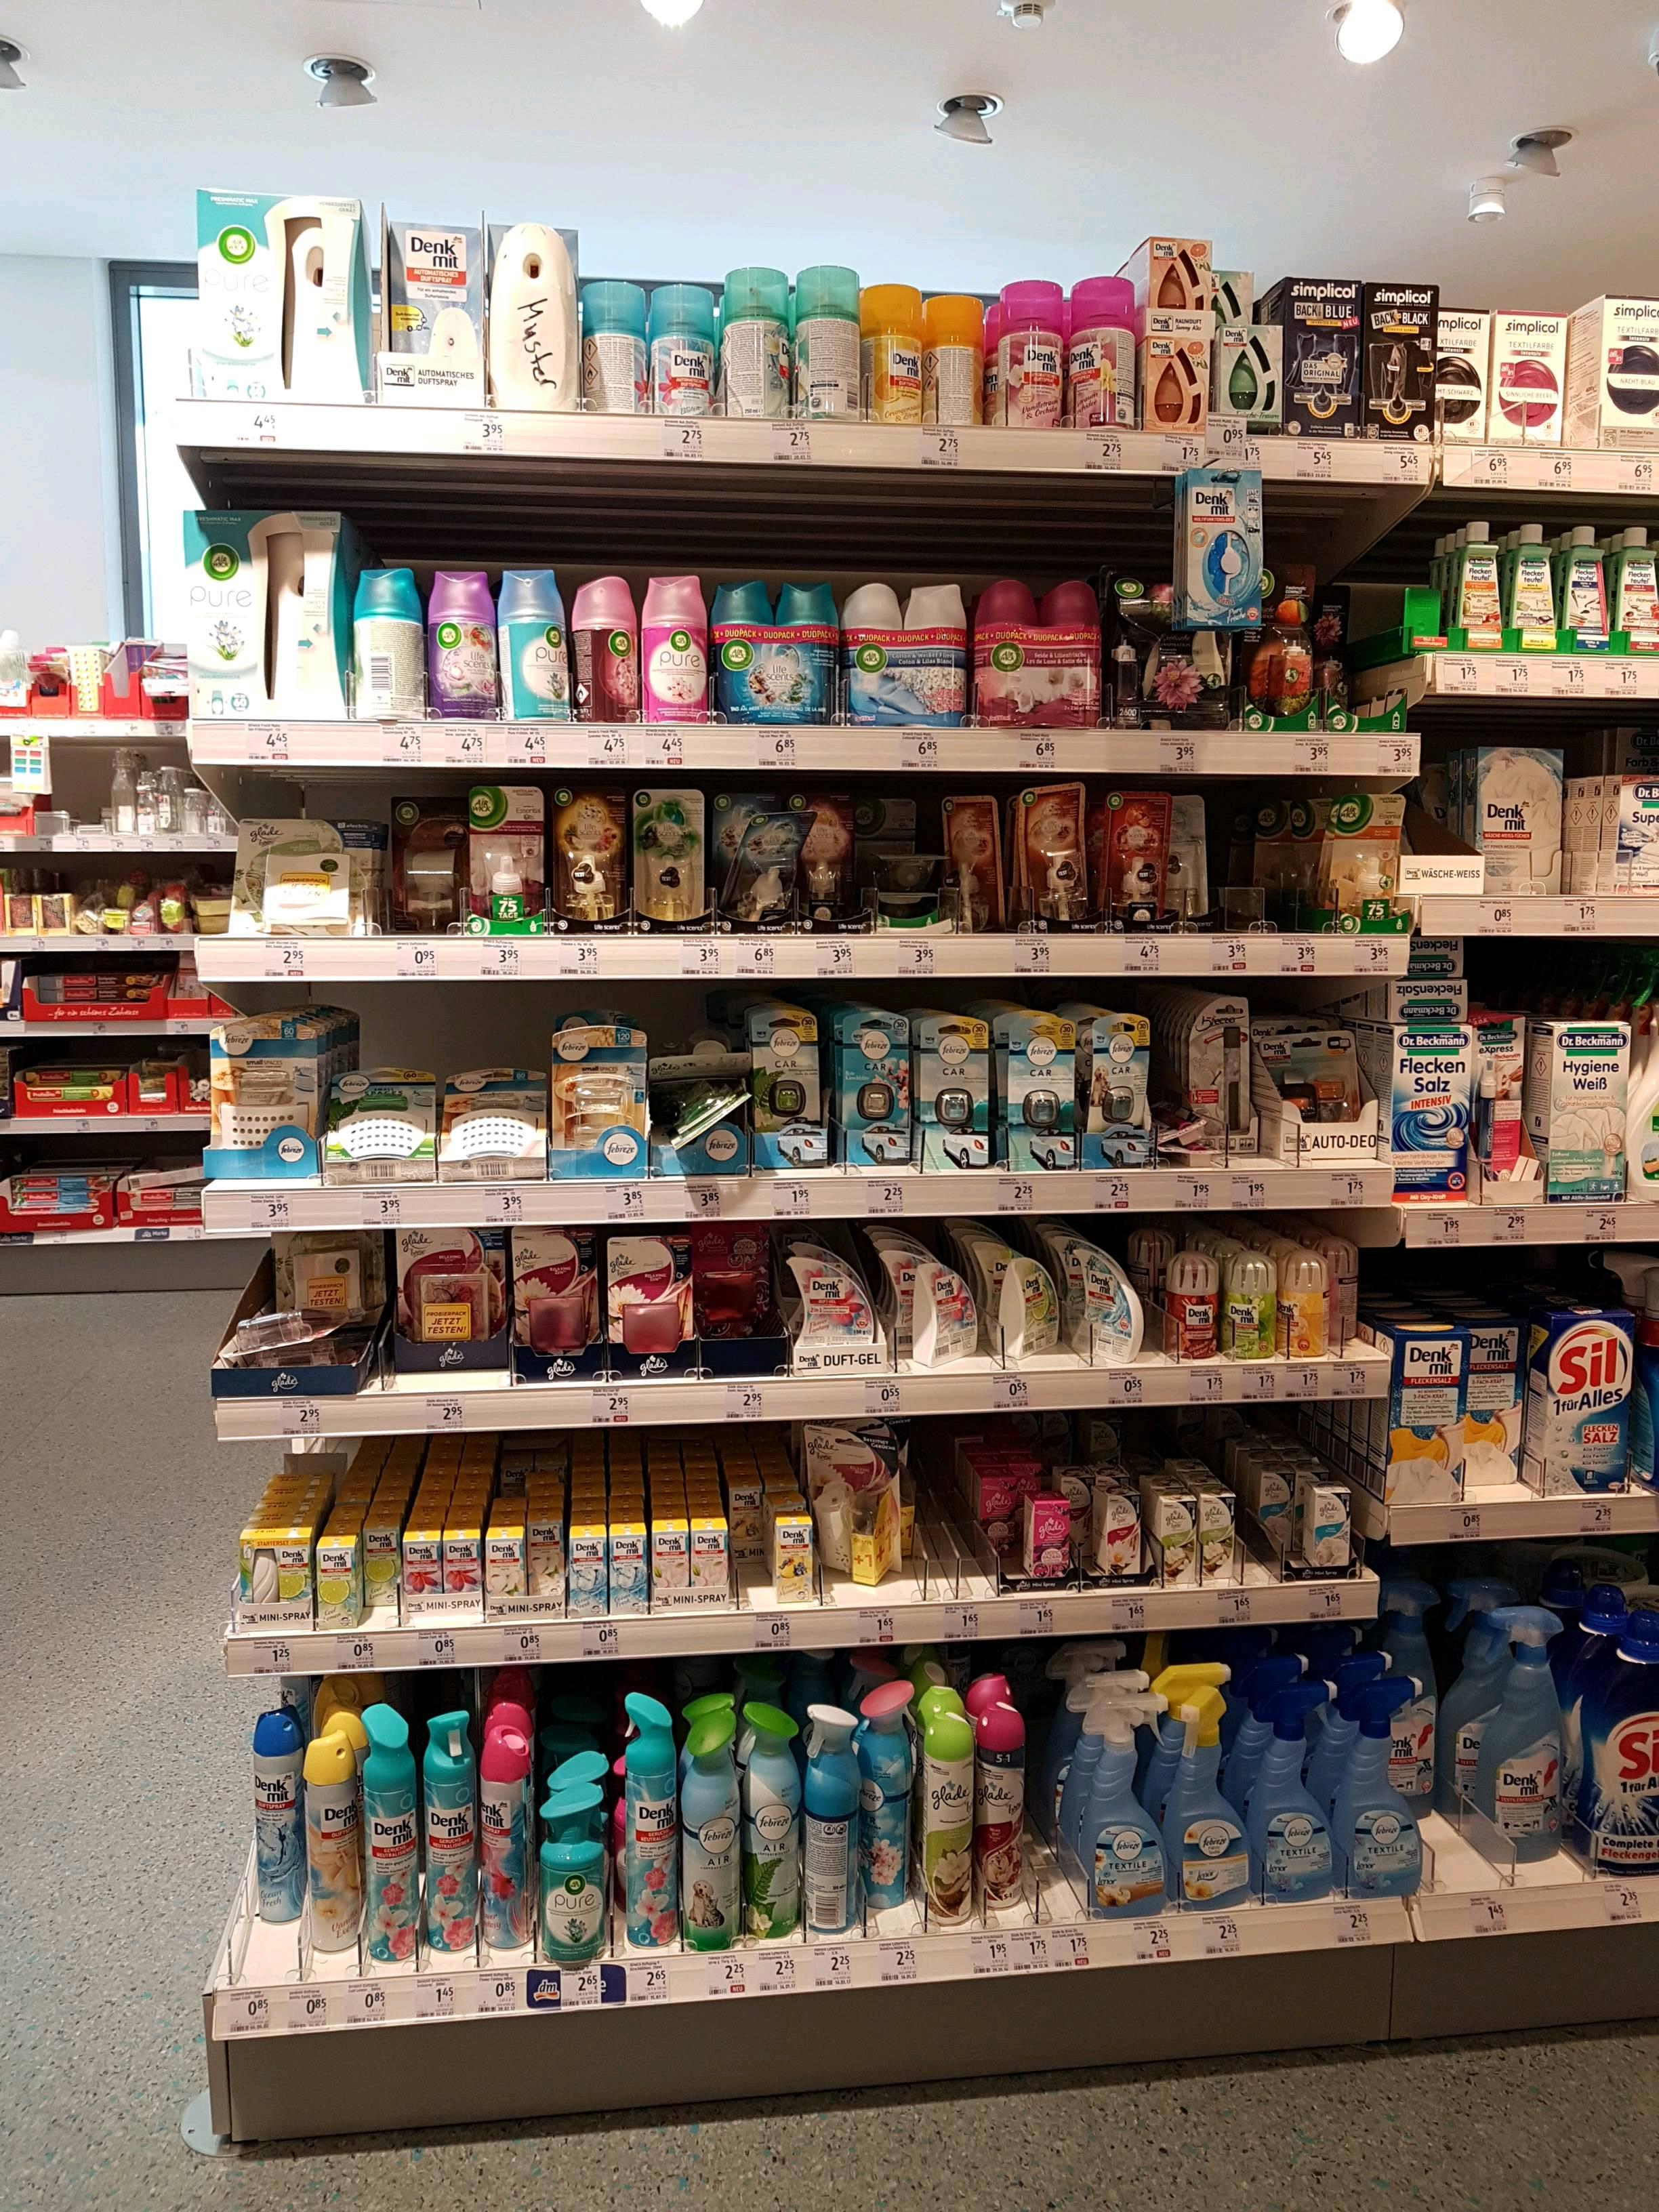misalignment: (809, 1425, 920, 1587), (213, 1296, 355, 1376), (1016, 786, 1096, 928), (652, 1038, 749, 1148), (725, 805, 807, 927), (941, 789, 1009, 935), (1070, 1245, 1150, 1366), (899, 1261, 976, 1362), (999, 1258, 1068, 1357), (882, 833, 946, 932), (1150, 1094, 1227, 1167)
